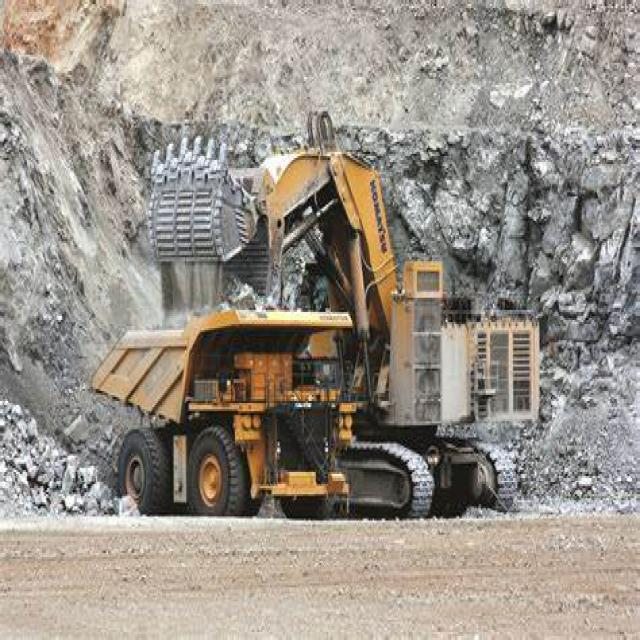dump_truck: (82, 298, 354, 516)
